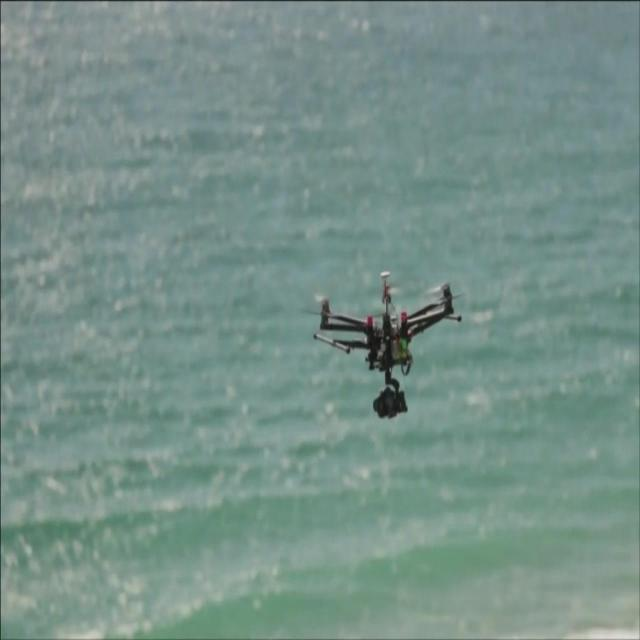UAV: (312, 274, 458, 420)
